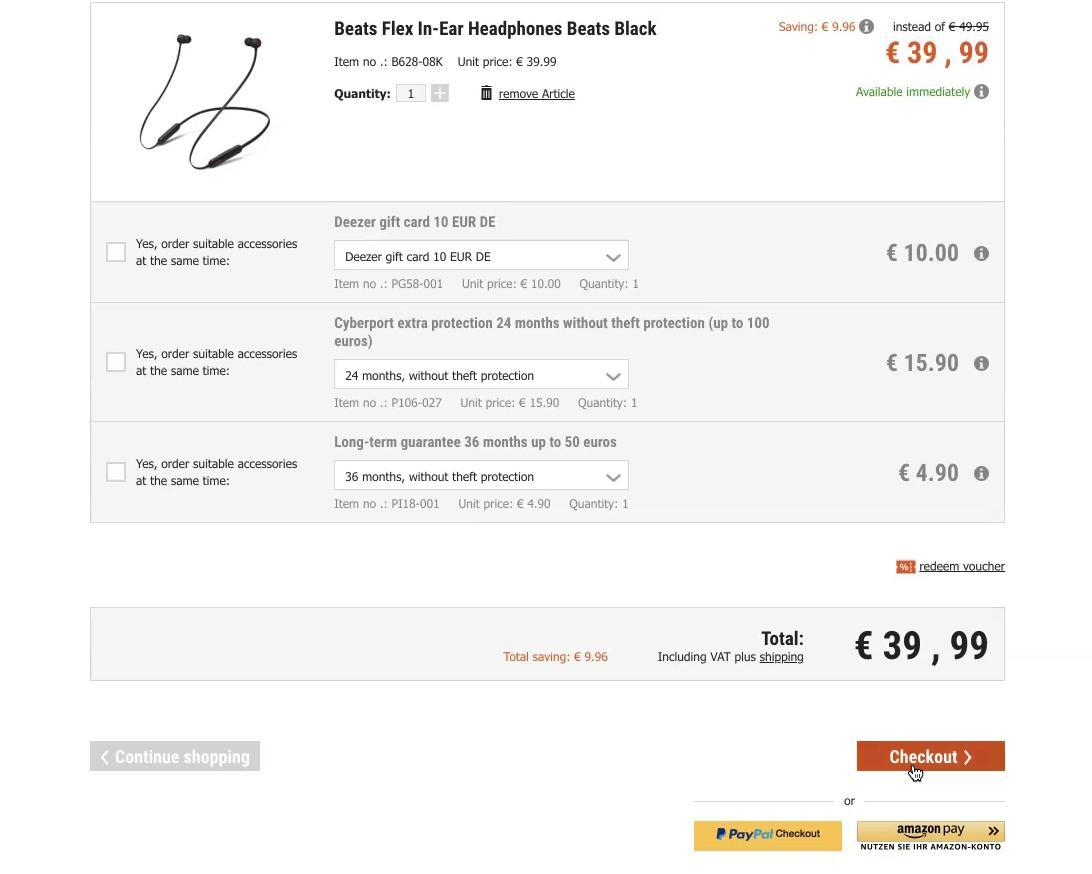button: (91, 742, 262, 773), (857, 741, 1008, 773), (694, 821, 844, 852), (858, 822, 1007, 843)
checkbox: (106, 242, 127, 264), (106, 463, 128, 484), (106, 353, 128, 373)
dropdown: (334, 460, 631, 493), (336, 241, 629, 272), (335, 360, 629, 389)
icon: (972, 245, 992, 264), (479, 82, 496, 104), (974, 466, 994, 484), (858, 20, 879, 36), (433, 85, 451, 103), (975, 355, 993, 373), (975, 84, 991, 102)
input: (397, 85, 428, 103)
label: (134, 455, 305, 494), (135, 347, 304, 382), (136, 238, 299, 271), (499, 90, 578, 104)
